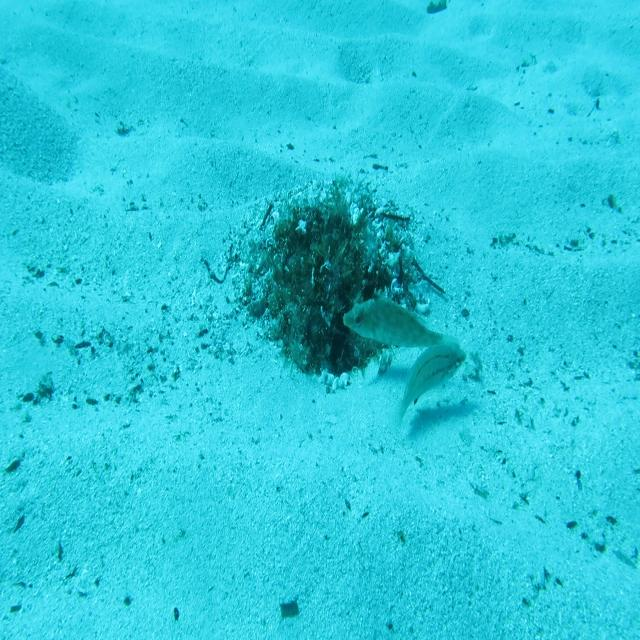MAF: (341, 284, 462, 354)
core_nest: (296, 214, 346, 268)
female: (392, 341, 468, 444)
nest: (216, 155, 438, 409)
vegetation: (280, 597, 299, 621), (425, 0, 449, 16)
